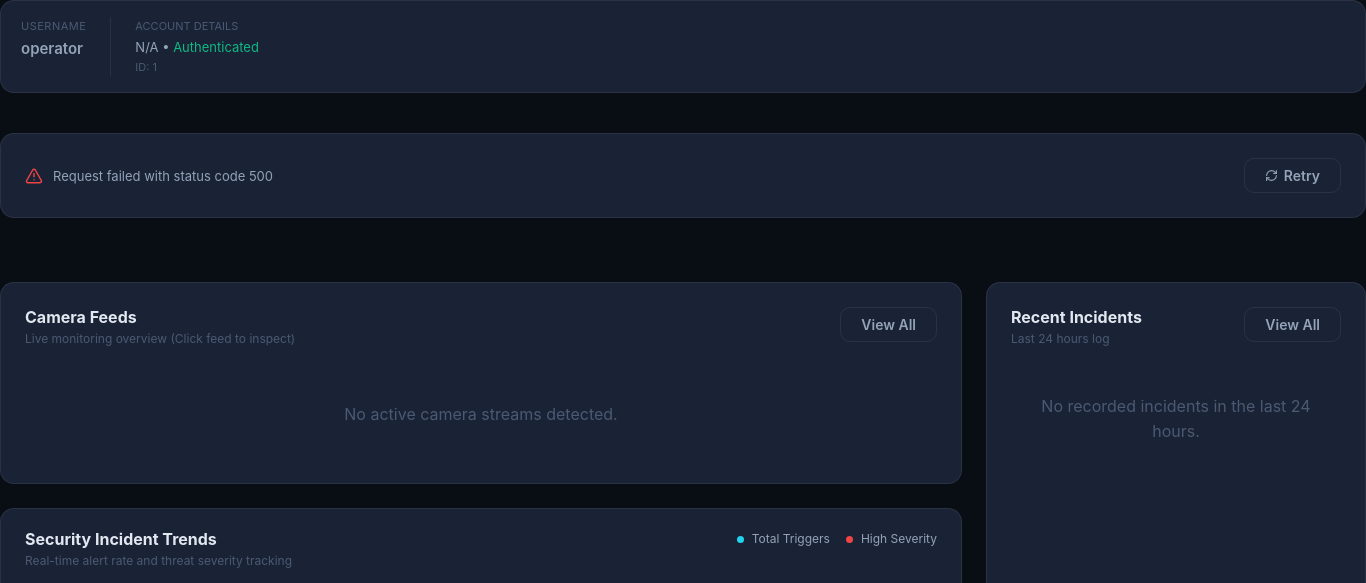
Test case: Real Mode (VITE_USE_MOCK=false) Resilience & Error Banners › Dashboard: displays error banner and retry button when /api/stats/ fails (500), and recovers on retry
This screenshot has width=1366, height=583.
Expected: the message "Request failed with status code 500 Retry" is shown, [0,134,1365,218]
Click the button "Retry".
click(1292, 176)  # box [1244,158,1341,194]
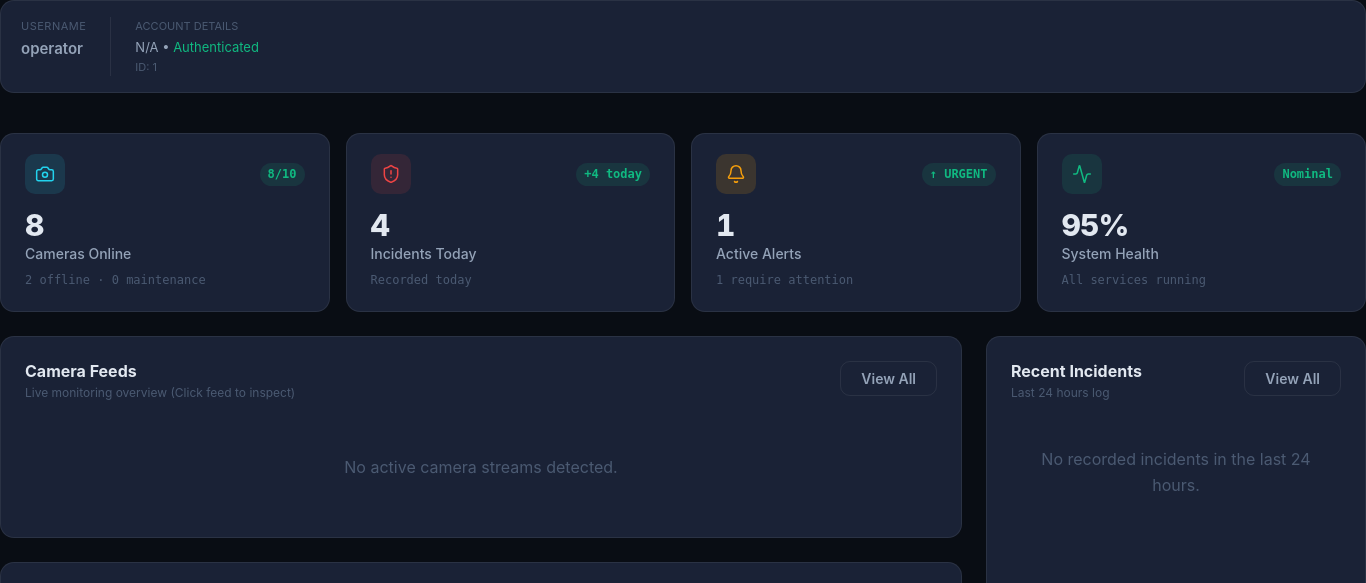
Expected: the message "Request failed with status code 500 Retry" is gone
Expected: the text "Cameras Online" is shown, [25,246,131,262]
